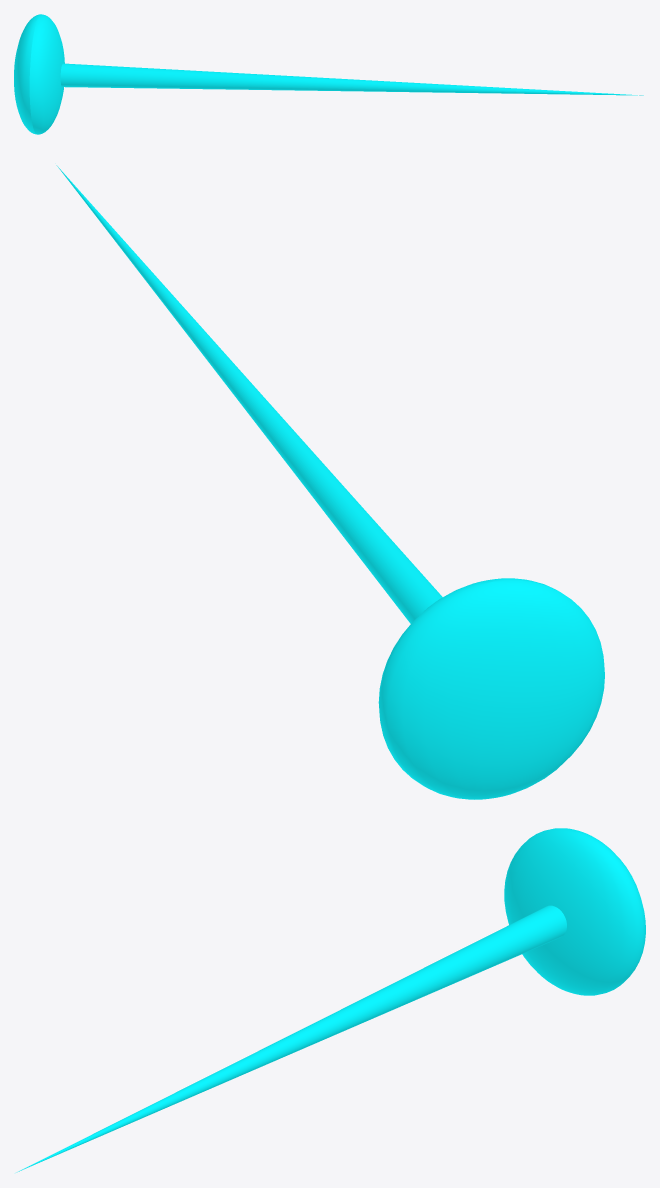
Rendered from opportunity.glb.
3 views of the same model, one above another, from view 1: azimuth 30°, elevation 25°; view 2: azimuth 150°, elevation 25°; view 3: azimuth 270°, elevation 25° (orthographic). The views are drawn at different scales.
Parts seen in each view (by area): view 1: sphere4; view 2: sphere4; view 3: sphere4.
Boxes of the visible parts, <box> form: sphere4: <box>14,14,643,134</box>; sphere4: <box>56,165,604,799</box>; sphere4: <box>16,828,645,1172</box>.
Bounding box in the file's own units: 0.000861 × 0.0002 × 0.000726.
